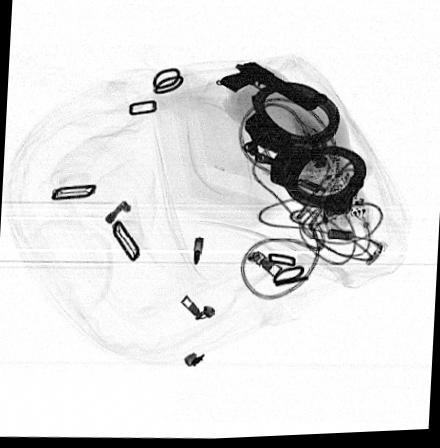Bullet: (193, 239, 203, 266)
Gun: (217, 62, 319, 116)
HandCuffs: (239, 83, 367, 220)
